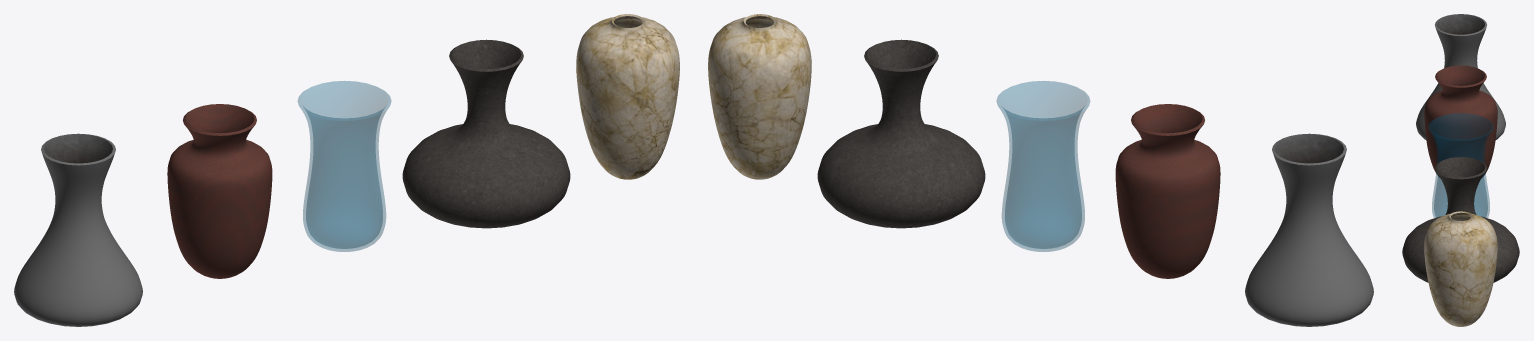
The model's file is obj_five_decorative_vases_bf3f4a.glb.
3 renders of one model, left to right at view 1: azimuth 30°, elevation 25°; view 2: azimuth 150°, elevation 25°; view 3: azimuth 270°, elevation 25°, orthographic. The views are drawn at different scales.
Visible parts, largest first — view 1: obj_five_decorative_vases_bf3f4a; view 2: obj_five_decorative_vases_bf3f4a; view 3: obj_five_decorative_vases_bf3f4a.
Boxes of the visible parts, bbox=[...] form: obj_five_decorative_vases_bf3f4a: bbox=[14, 14, 679, 326]; obj_five_decorative_vases_bf3f4a: bbox=[708, 14, 1373, 326]; obj_five_decorative_vases_bf3f4a: bbox=[1402, 14, 1519, 326].
Size of the model in its own units: 1.27 by 0.3 by 0.2849.
Materials: 5 (5 with a texture image).
